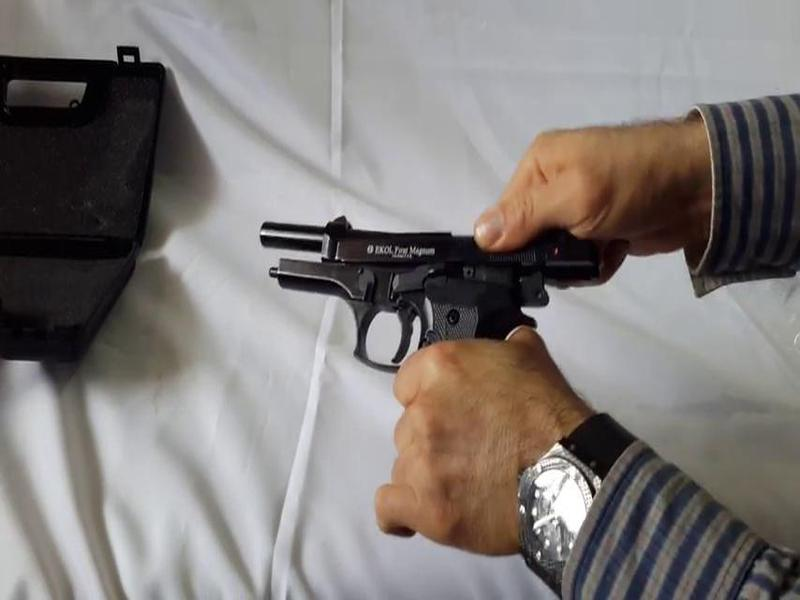Pistola: (222, 195, 603, 422)
